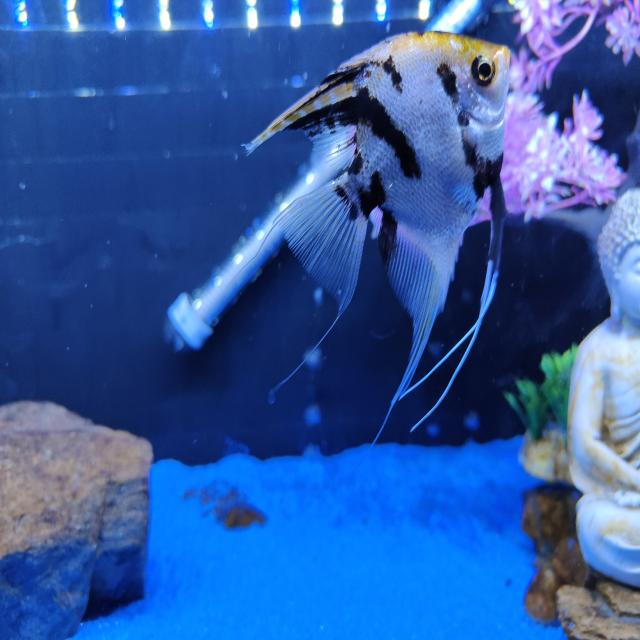Fish: (246, 32, 509, 411)
